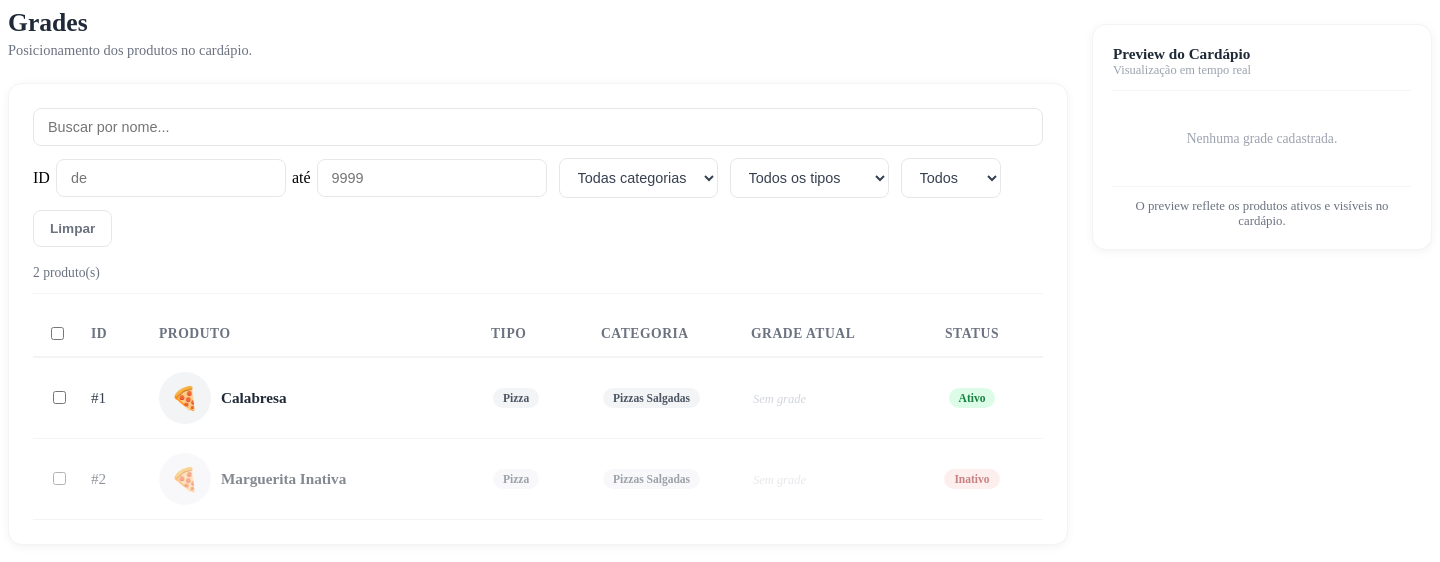
Test: AdminGrades › filtro por nome esconde produtos que não combinam
Check: the text "Calabresa" is shown, box [221,389,286,406]
Type "marguerita" into the field with placeholder "Buscar por nome..." at (538, 127), box [33,108,1043,146]
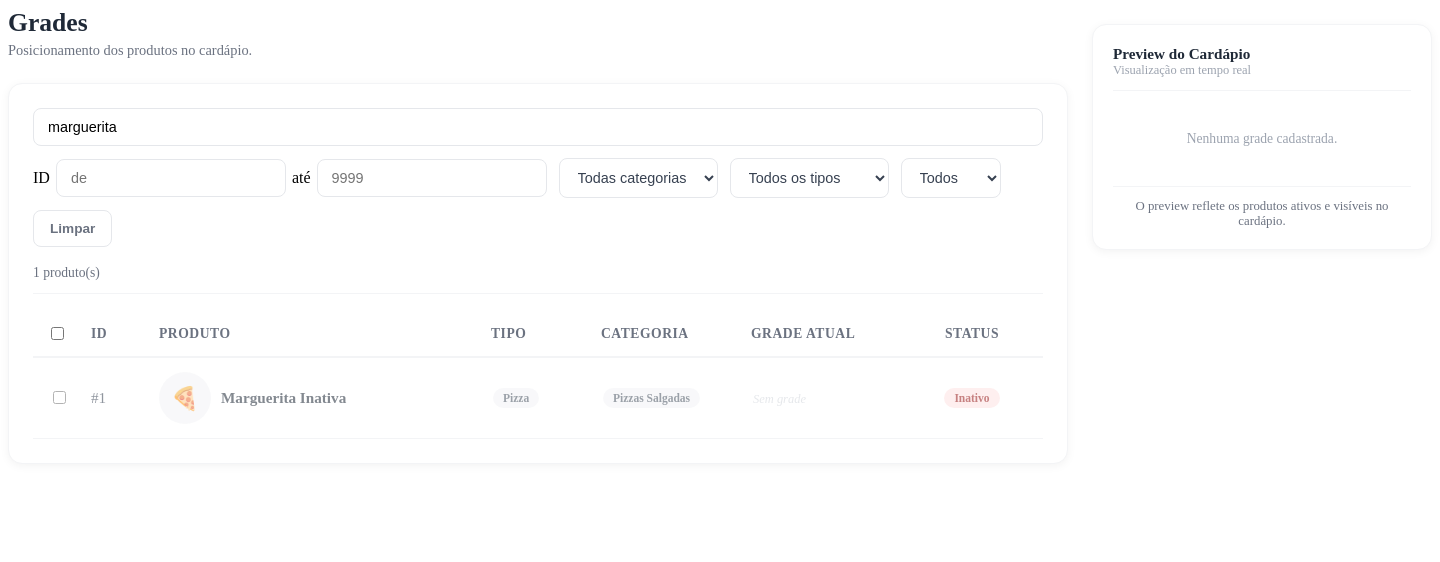
Check: the text "Marguerita Inativa" is shown, box [221,389,346,406]
Check: the text "Calabresa" is gone
Check: the text "1 produto(s)" is shown, box [33,265,100,281]
